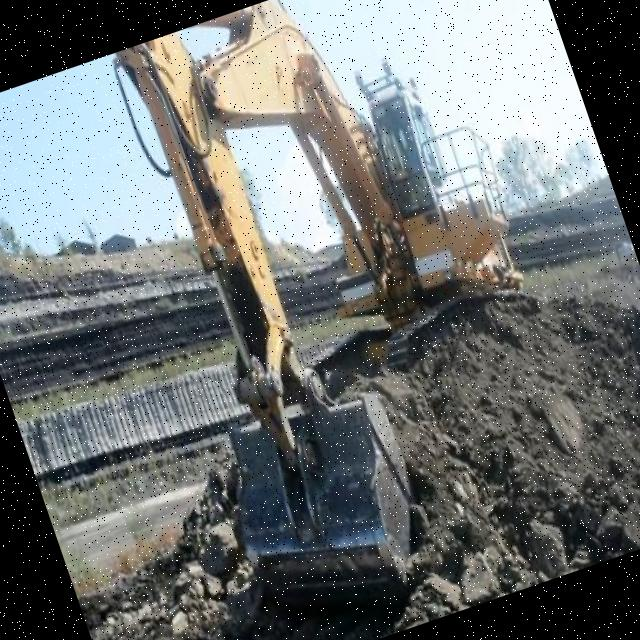Excavator: (71, 0, 617, 628)
